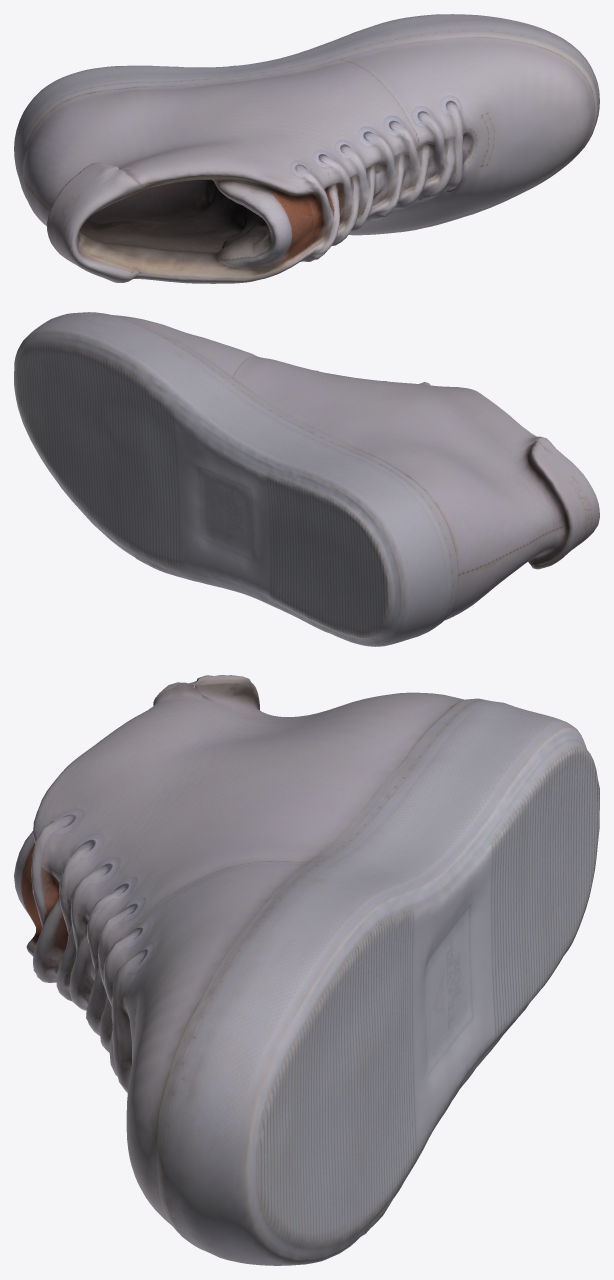
3 views of the same model, one above another, from view 1: azimuth 30°, elevation 25°; view 2: azimuth 150°, elevation 25°; view 3: azimuth 270°, elevation 25° (orthographic). The views are drawn at different scales.
Visible parts, largest first — view 1: mmGroup0; view 2: mmGroup0; view 3: mmGroup0.
Part boxes in pixels (box(x1,y1,x2,y2)): mmGroup0: box(14, 14, 599, 283); mmGroup0: box(14, 312, 599, 646); mmGroup0: box(14, 675, 599, 1265).
Bounding box in the file's own units: 380 × 135 × 206.
